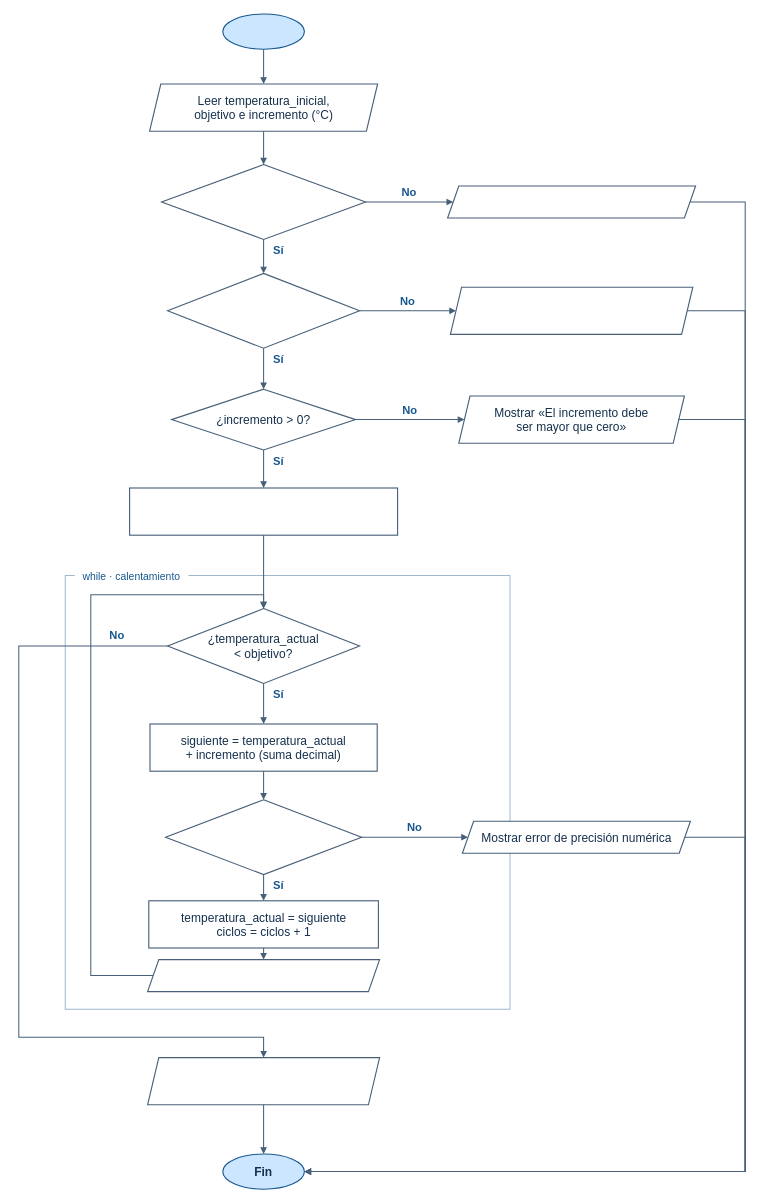
The diagram is 766 pixels wide and 1204 high, and some of its shapes have lost their labels. The shapes that lost their labels are listed below. From the top down, each one's box as (x1, y1, x2, y2) in pixels, then its label:
(222, 13, 305, 49): Inicio
(161, 164, 366, 240): ¿Los tres datos son numéricos y finitos?
(447, 185, 696, 218): Mostrar error de entrada numérica
(167, 272, 360, 348): ¿objetivo > temperatura_inicial?
(449, 286, 693, 335): Mostrar «El objetivo debe ser mayor que la temperatura inicial»
(129, 487, 398, 535): temperatura_actual = temperatura_inicial ciclos = 0
(165, 799, 362, 875): ¿siguiente es finito y > temperatura_actual?
(147, 959, 380, 992): Mostrar ciclos y temperatura_actual
(147, 1057, 380, 1105): Mostrar temperatura_actual (°C) y ciclos totales
